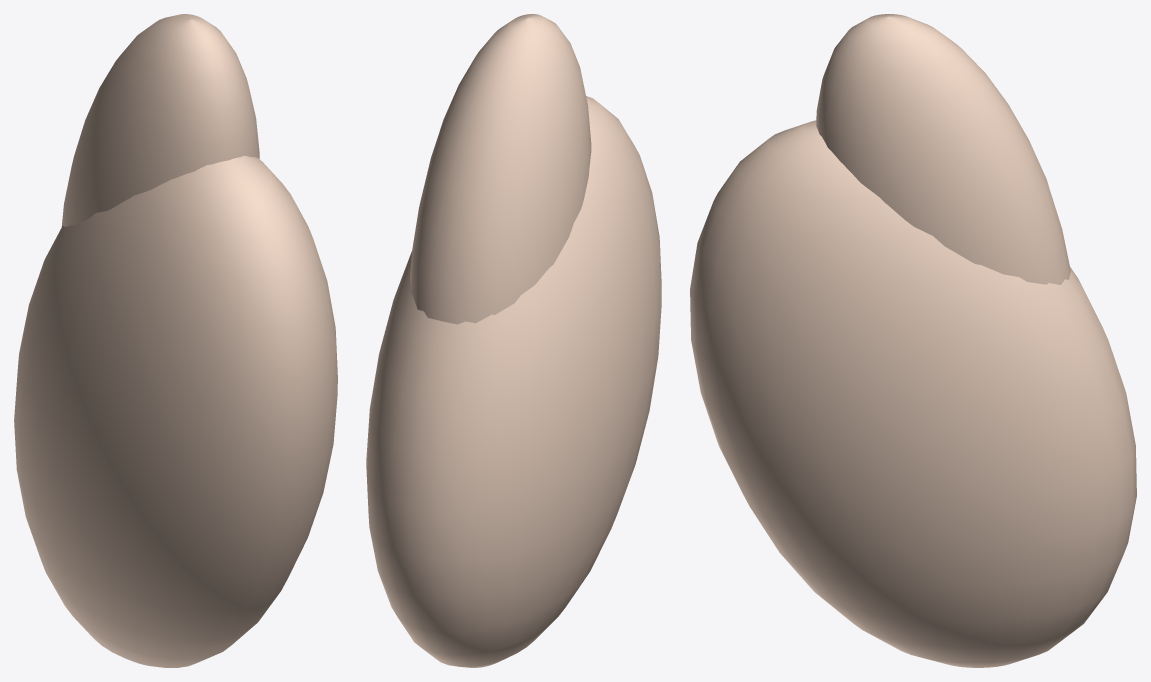
3 renders of one model, left to right at view 1: azimuth 30°, elevation 25°; view 2: azimuth 150°, elevation 25°; view 3: azimuth 270°, elevation 25°, orthographic. The views are drawn at different scales.
Parts seen in each view (by area): view 1: Nose_Tip, Nose_Bridge; view 2: Nose_Tip, Nose_Bridge; view 3: Nose_Tip, Nose_Bridge.
Boxes of the visible parts, x1,y1,x2,y2 form: Nose_Tip: (14,155,337,667); Nose_Bridge: (61,14,259,226); Nose_Tip: (366,96,661,667); Nose_Bridge: (410,14,591,324); Nose_Tip: (690,120,1136,667); Nose_Bridge: (816,14,1070,284).
Size of the model in its own units: 0.024 by 0.067 by 0.042.
